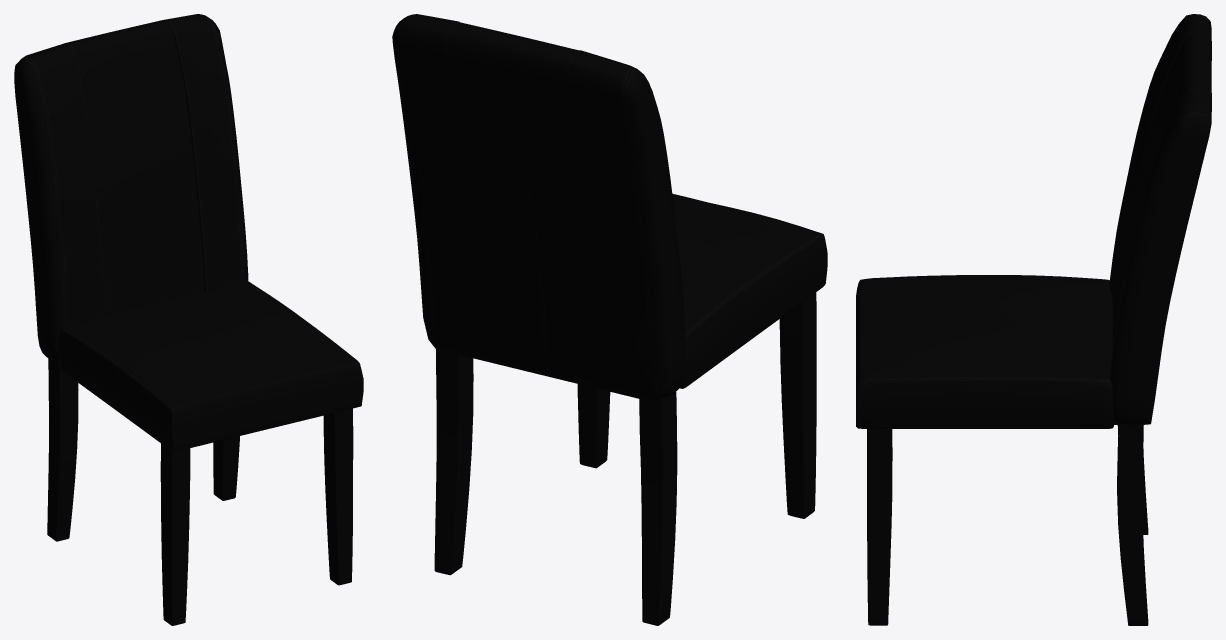
The model's file is office_chair_B075ZZYH4B.glb.
3 renders of one model, left to right at view 1: azimuth 30°, elevation 25°; view 2: azimuth 150°, elevation 25°; view 3: azimuth 270°, elevation 25°, orthographic. The views are drawn at different scales.
Parts seen in each view (by area): view 1: "$AMJFCPKONICAAAAAICBAAAAAAAAAFIFLGGAP"; view 2: "$AMJFCPKONICAAAAAICBAAAAAAAAAFIFLGGAP"; view 3: "$AMJFCPKONICAAAAAICBAAAAAAAAAFIFLGGAP".
Part boxes in pixels (x1,y1,x2,y2): "$AMJFCPKONICAAAAAICBAAAAAAAAAFIFLGGAP": (14, 14, 363, 625); "$AMJFCPKONICAAAAAICBAAAAAAAAAFIFLGGAP": (392, 14, 827, 625); "$AMJFCPKONICAAAAAICBAAAAAAAAAFIFLGGAP": (856, 14, 1211, 625).
Size of the model in its own units: 0.3988 by 0.897 by 0.5565.
1 material, 1 textured.
